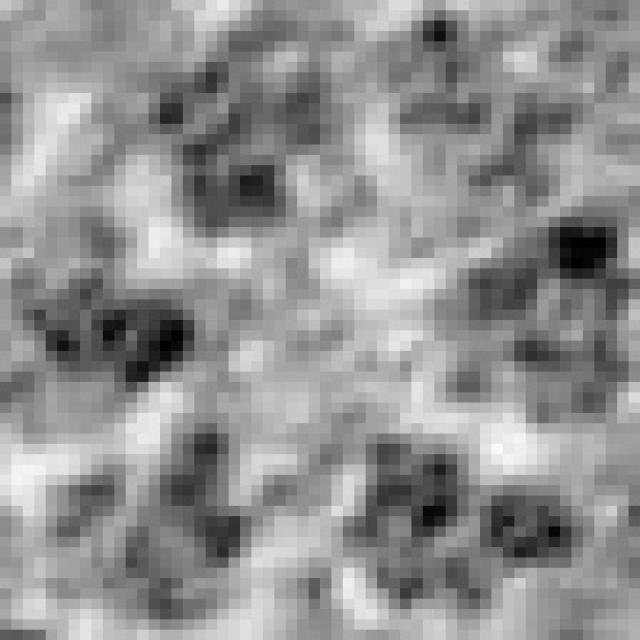inner: (197, 183, 444, 466)
lobe: (421, 199, 635, 433), (375, 14, 581, 239), (52, 416, 265, 630), (343, 428, 591, 611), (146, 0, 338, 236), (7, 213, 206, 434)
outer: (0, 0, 640, 640)
